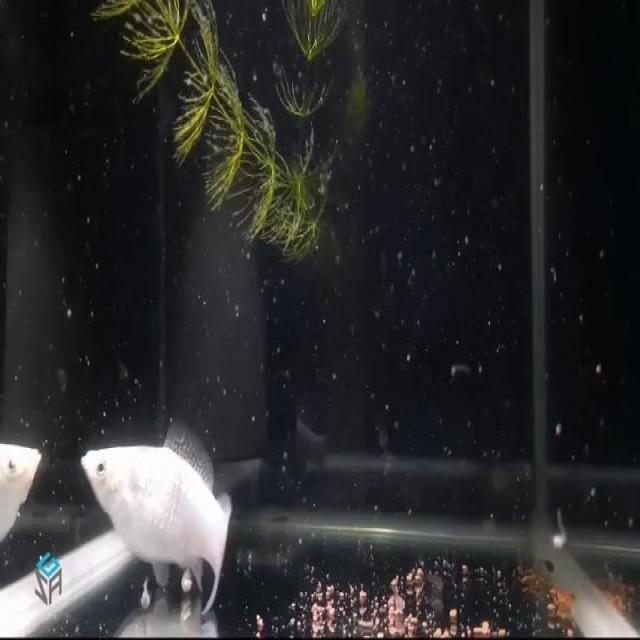PlatyFish: (76, 415, 232, 622)
